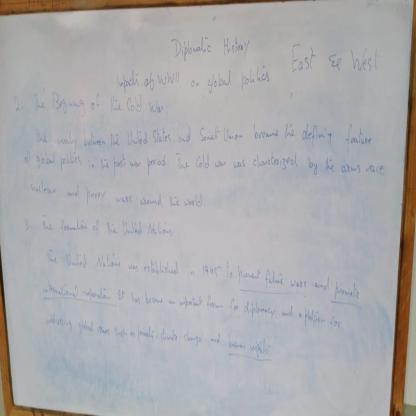Handwritten text: (34, 280, 330, 334), (41, 306, 275, 362), (27, 118, 375, 153), (20, 149, 392, 177), (221, 254, 366, 304), (26, 177, 214, 210), (42, 243, 196, 277), (112, 61, 273, 91), (30, 89, 166, 119), (37, 210, 180, 238), (170, 30, 253, 63), (350, 42, 380, 81), (289, 36, 315, 78)
Whiteboard: (0, 0, 415, 416)
